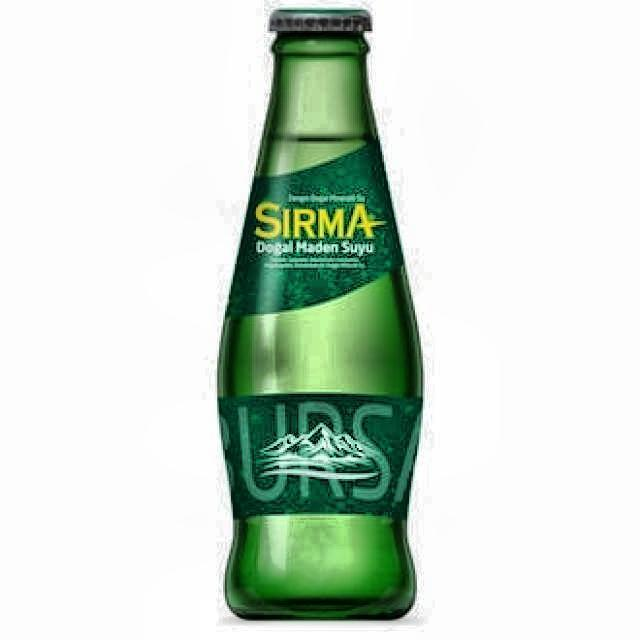glass: (216, 8, 424, 624)
